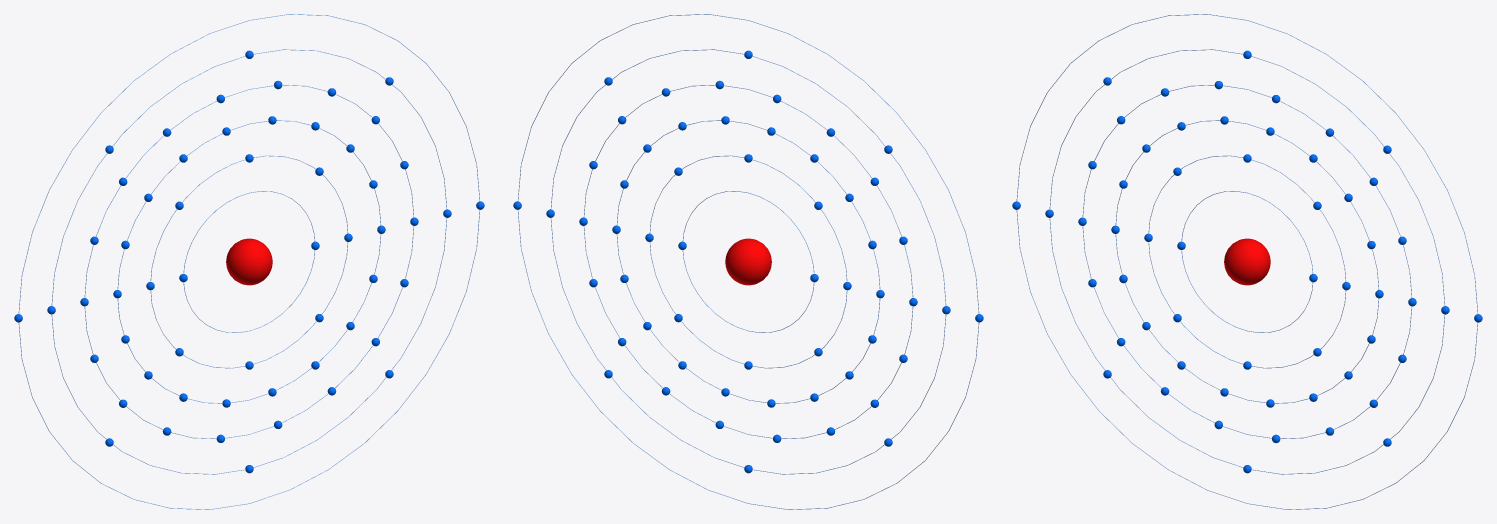
3 views of the same model, side by side, from view 1: azimuth 30°, elevation 25°; view 2: azimuth 150°, elevation 25°; view 3: azimuth 330°, elevation 25° (orthographic).
Parts seen in each view (by area): view 1: 구, 도넛_4, 도넛_3, 도넛_2, 도넛_2_2, 도넛_1; view 2: 구, 도넛_4, 도넛_3, 도넛_2, 도넛_2_2, 도넛_1; view 3: 구, 도넛_4, 도넛_3, 도넛_2, 도넛_2_2, 도넛_1.
Boxes of the visible parts, x1,y1,x2,y2 form: 구: [226, 238, 272, 285]; 도넛_4: [18, 14, 480, 509]; 도넛_3: [51, 49, 447, 474]; 도넛_2: [84, 85, 414, 438]; 도넛_2_2: [117, 120, 381, 403]; 도넛_1: [150, 155, 348, 368]; 구: [725, 238, 771, 285]; 도넛_4: [517, 14, 979, 509]; 도넛_3: [550, 49, 946, 474]; 도넛_2: [583, 85, 913, 438]; 도넛_2_2: [616, 120, 880, 403]; 도넛_1: [649, 155, 847, 368]; 구: [1224, 238, 1270, 285]; 도넛_4: [1016, 14, 1478, 509]; 도넛_3: [1049, 49, 1445, 474]; 도넛_2: [1082, 85, 1412, 438]; 도넛_2_2: [1115, 120, 1379, 403]; 도넛_1: [1148, 155, 1346, 368].
Bounding box in the file's own units: 569 × 561 × 49.18.
